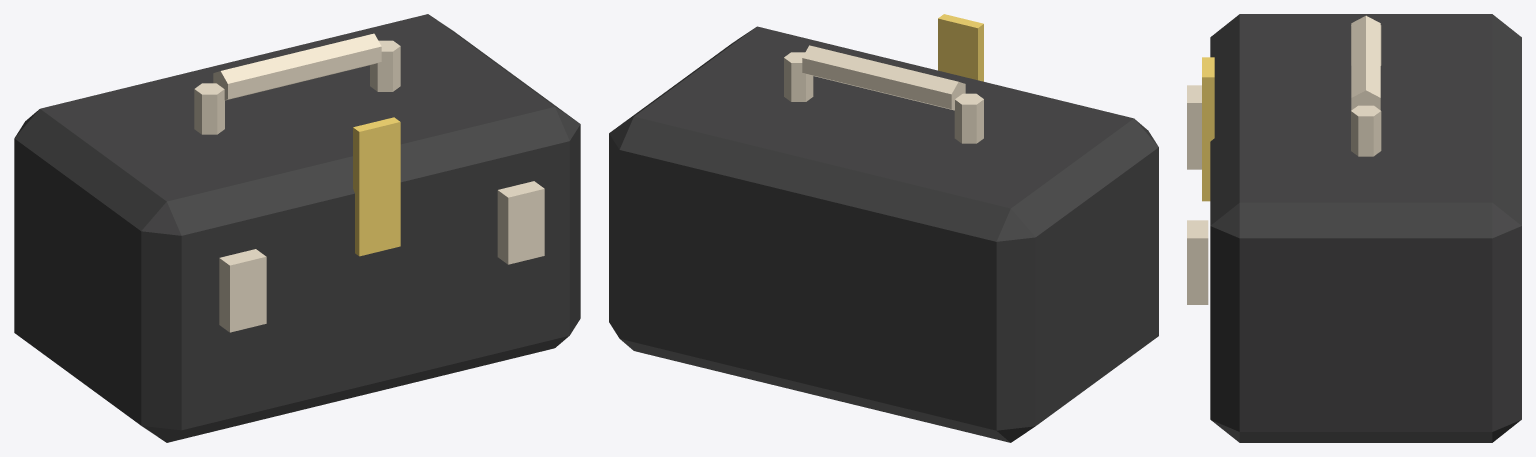
3 views of the same model, side by side, from view 1: azimuth 30°, elevation 25°; view 2: azimuth 150°, elevation 25°; view 3: azimuth 270°, elevation 25° (orthographic). The views are drawn at different scales.
Visible parts, largest first — view 1: Case, Seal, Handle, Buckle, Buckle.001, Handle post, Handle post.001; view 2: Case, Handle, Seal, Handle post, Handle post.001; view 3: Case, Handle, Buckle.001, Seal, Handle post.001, Buckle.
Part boxes in pixels (x1,y1,x2,y2): Case: (14, 14, 580, 442); Seal: (353, 117, 400, 256); Handle: (213, 33, 381, 100); Buckle: (219, 249, 266, 332); Buckle.001: (497, 181, 544, 264); Handle post: (194, 83, 224, 134); Handle post.001: (370, 40, 400, 91); Case: (609, 26, 1158, 442); Handle: (802, 45, 965, 110); Seal: (938, 14, 983, 81); Handle post: (954, 93, 983, 143); Handle post.001: (784, 52, 813, 101); Case: (1210, 14, 1521, 442); Handle: (1351, 15, 1380, 110); Buckle.001: (1187, 220, 1208, 304); Seal: (1202, 57, 1214, 201); Handle post.001: (1351, 105, 1381, 156); Buckle: (1187, 85, 1201, 169).
Bounding box in the file's own units: 48 × 31 × 31.8.
